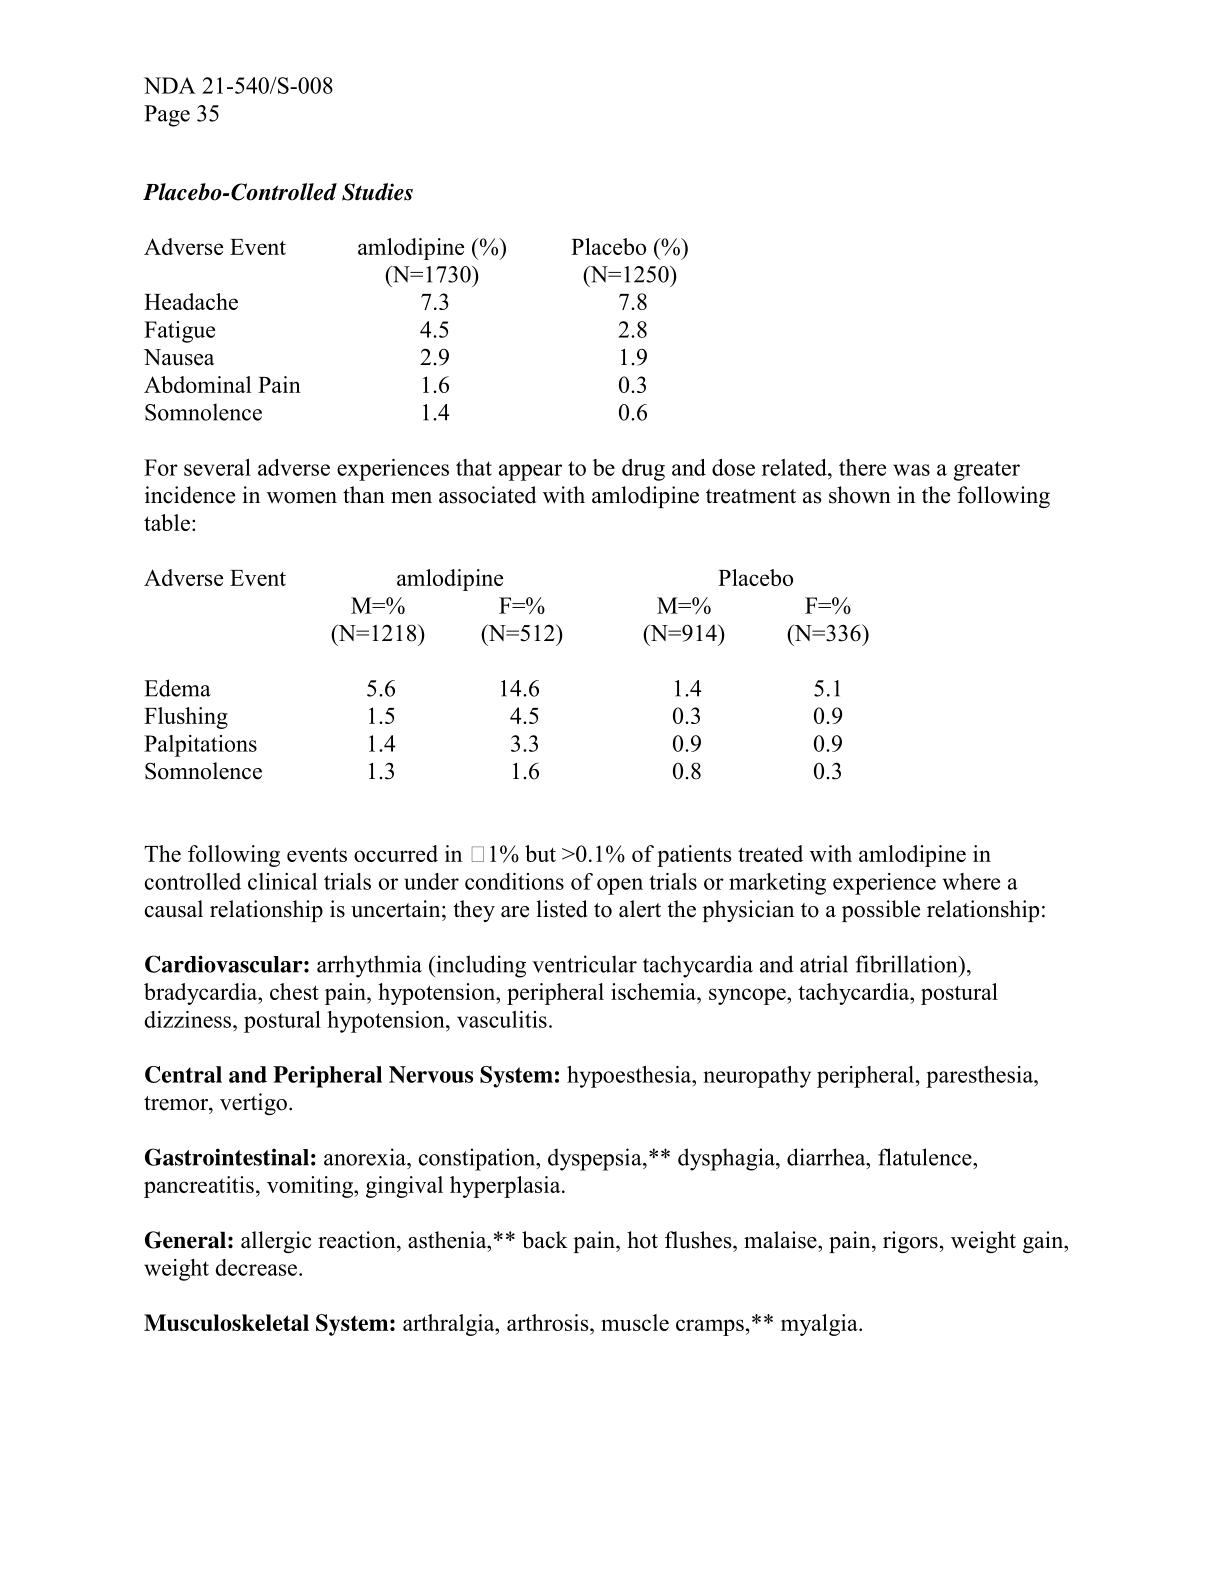nolines: (141, 564, 869, 782), (141, 231, 690, 426)
